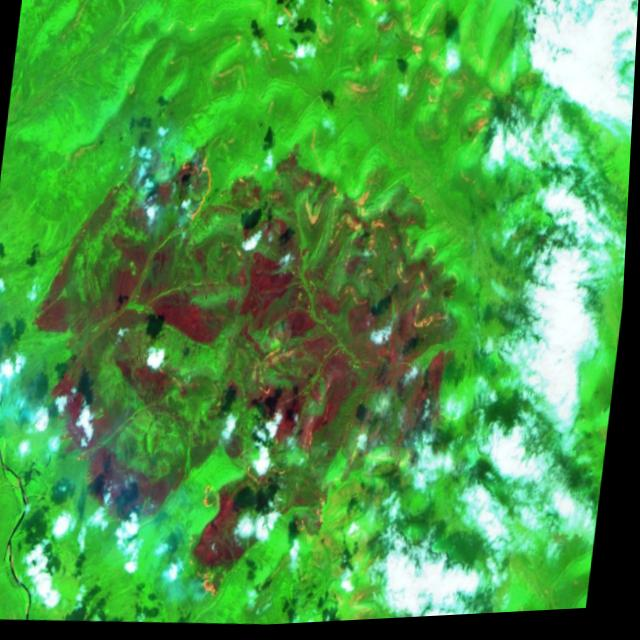fire: (186, 450, 357, 625), (168, 136, 229, 243)
